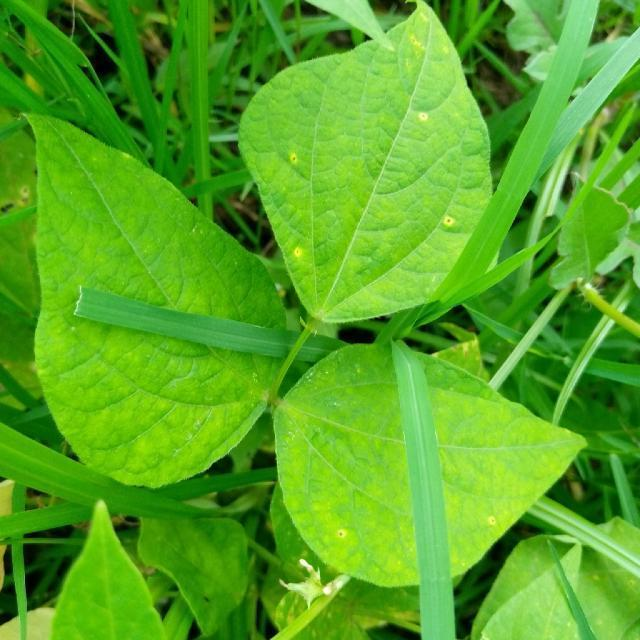embun tepung: (0, 64, 510, 625)
